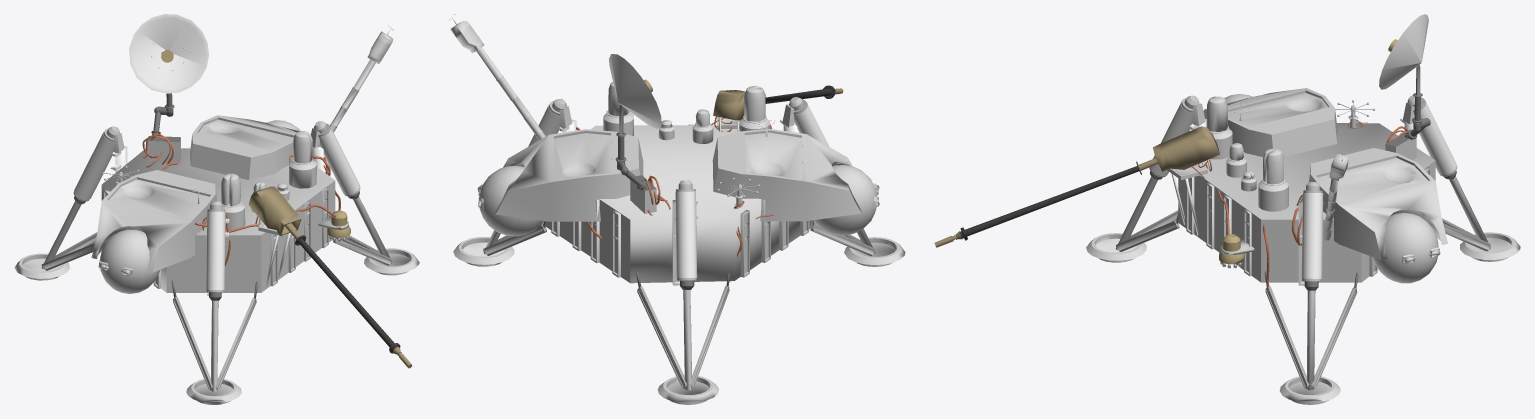
Rendered from viking_lod1.glb.
3 renders of one model, left to right at view 1: azimuth 30°, elevation 25°; view 2: azimuth 150°, elevation 25°; view 3: azimuth 270°, elevation 25°, orthographic. The views are drawn at different scales.
Parts seen in each view (by area): view 1: viking_lod1; view 2: viking_lod1; view 3: viking_lod1.
Boxes of the visible parts, x1,y1,x2,y2 form: viking_lod1: [14, 14, 419, 404]; viking_lod1: [449, 14, 905, 404]; viking_lod1: [934, 14, 1520, 404].
Size of the model in its own units: 2.55 by 1.82 by 3.4.
